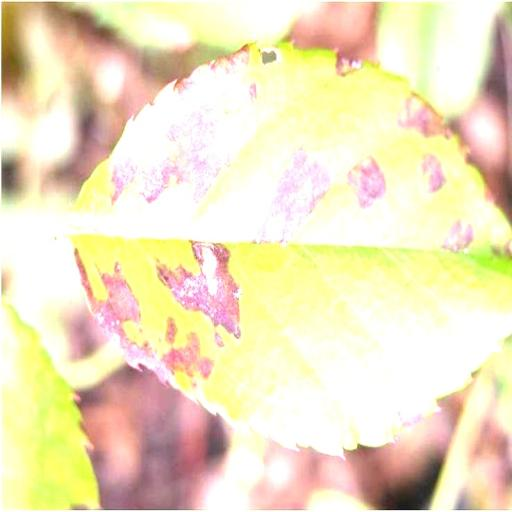downy_mildew: (72, 45, 511, 453)
